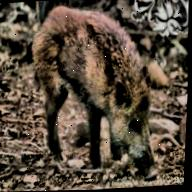boar: (35, 8, 172, 180)
